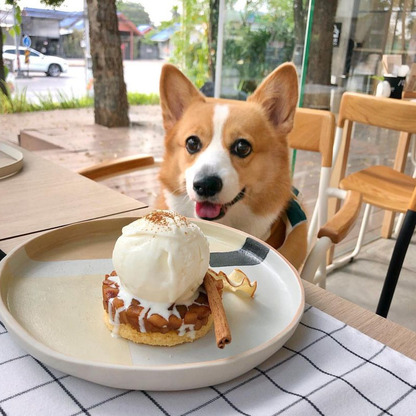Corgi: (140, 55, 331, 278)
